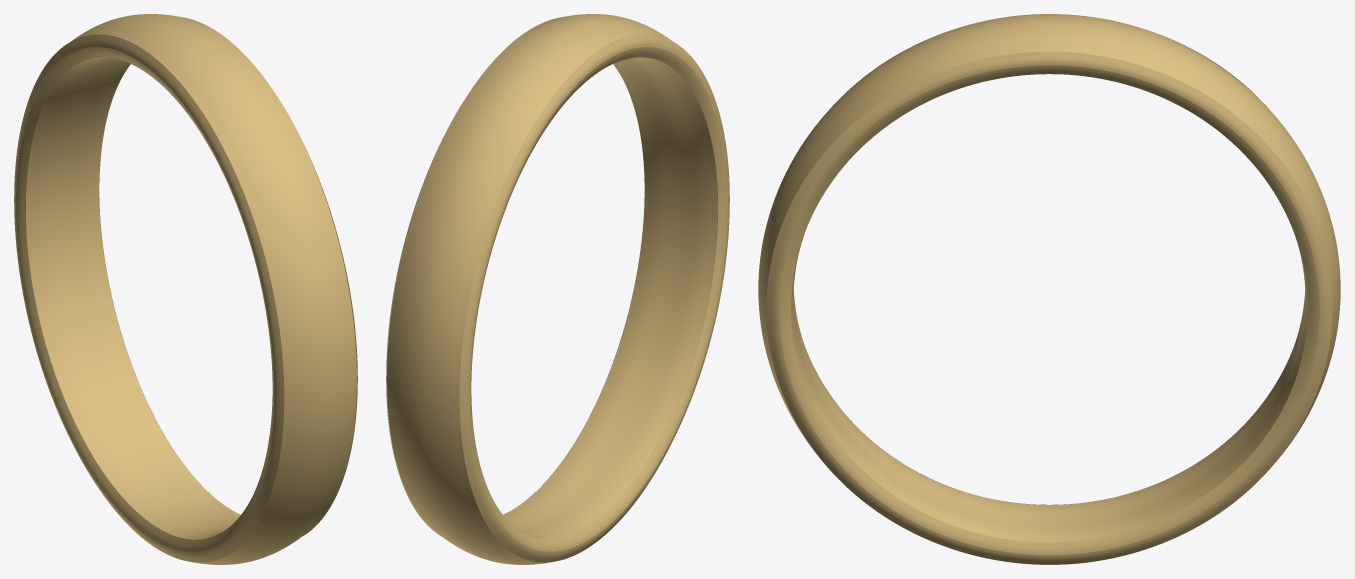
3 renders of one model, left to right at view 1: azimuth 30°, elevation 25°; view 2: azimuth 150°, elevation 25°; view 3: azimuth 270°, elevation 25°, orthographic. The views are drawn at different scales.
Visible parts, largest first — view 1: P5-Outer, P5-Inner, P5-Sides; view 2: P5-Outer, P5-Inner, P5-Sides; view 3: P5-Sides, P5-Outer, P5-Inner.
Part boxes in pixels (x1,y1,x2,y2): P5-Outer: [26, 14, 356, 564]; P5-Inner: [26, 50, 240, 539]; P5-Sides: [14, 34, 357, 562]; P5-Outer: [387, 14, 717, 564]; P5-Inner: [503, 50, 717, 539]; P5-Sides: [386, 34, 729, 562]; P5-Sides: [766, 35, 1332, 564]; P5-Outer: [758, 14, 1340, 564]; P5-Inner: [791, 51, 1307, 542].
Size of the model in its own units: 0.3993 by 2.38 by 2.36.
